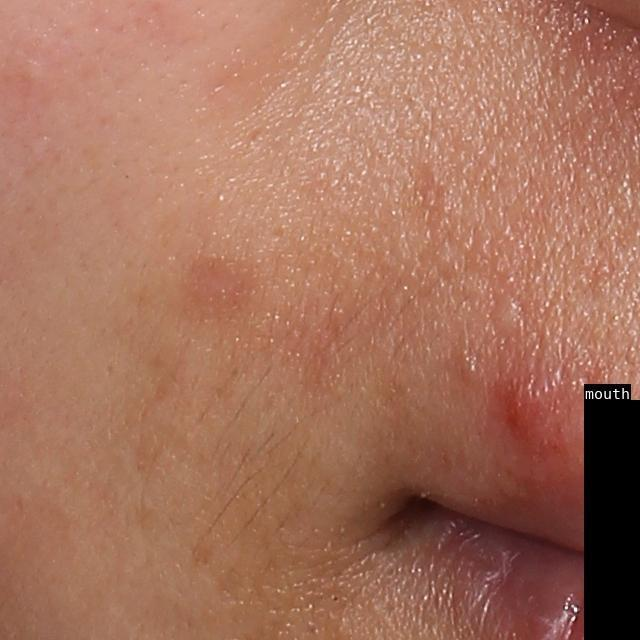comedo: (453, 359, 484, 389)
papule: (499, 378, 566, 448)
